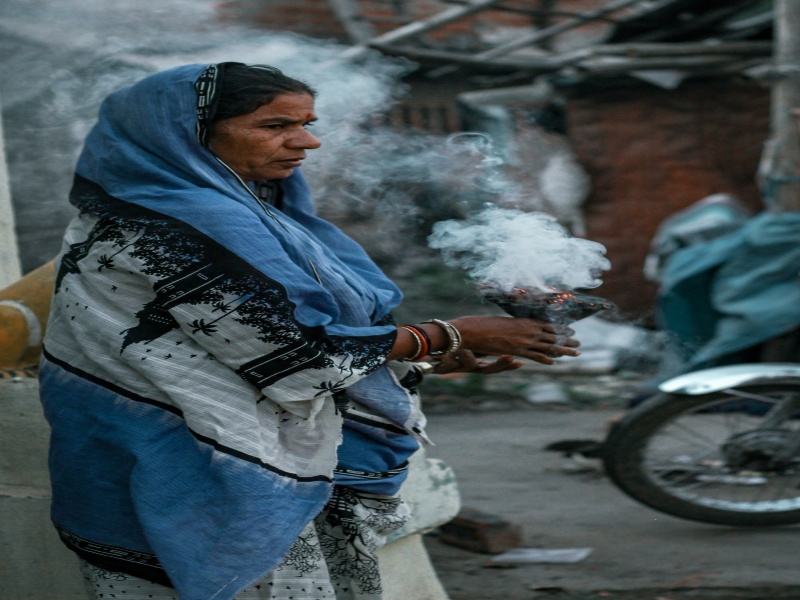smoke: (328, 135, 613, 291)
